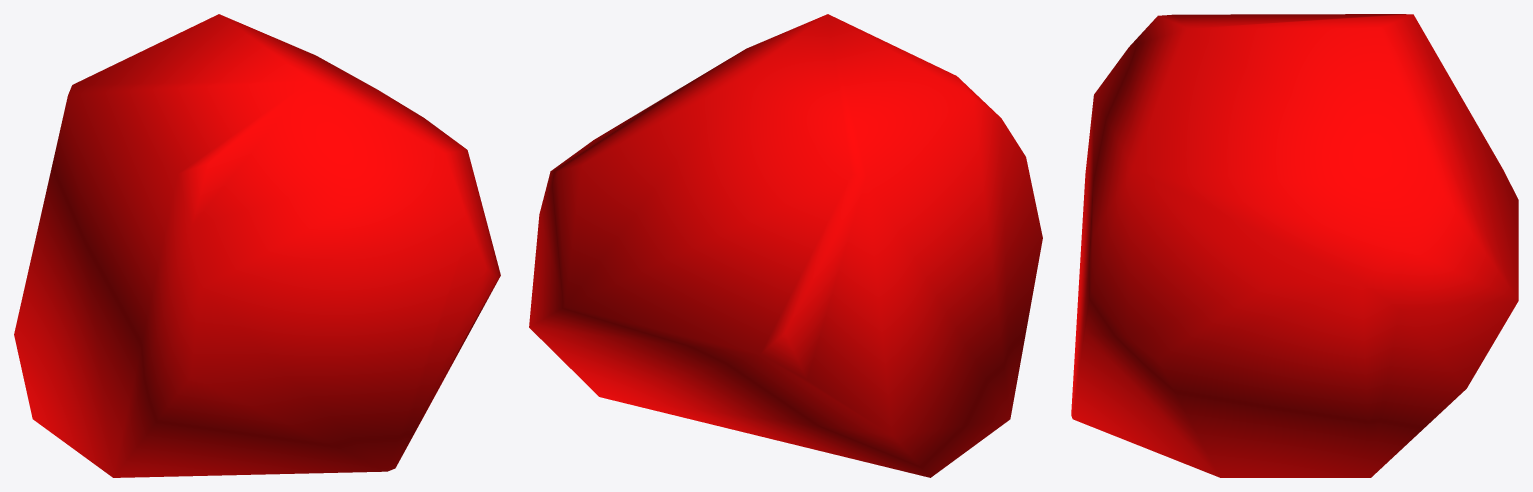
Rendered from Rocher4_LowPoly.fbx.
3 views of the same model, side by side, from view 1: azimuth 30°, elevation 25°; view 2: azimuth 150°, elevation 25°; view 3: azimuth 270°, elevation 25° (orthographic). The views are drawn at different scales.
Visible parts, largest first — view 1: Rocher4_LowPoly; view 2: Rocher4_LowPoly; view 3: Rocher4_LowPoly.
Part boxes in pixels (<box>): Rocher4_LowPoly: <box>14,14,500,477</box>; Rocher4_LowPoly: <box>529,14,1042,477</box>; Rocher4_LowPoly: <box>1071,14,1518,477</box>.
Bounding box in the file's own units: 108 × 95.31 × 103.
